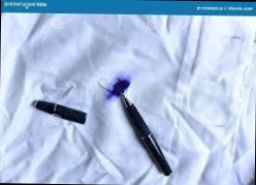ink: (107, 76, 129, 97)
